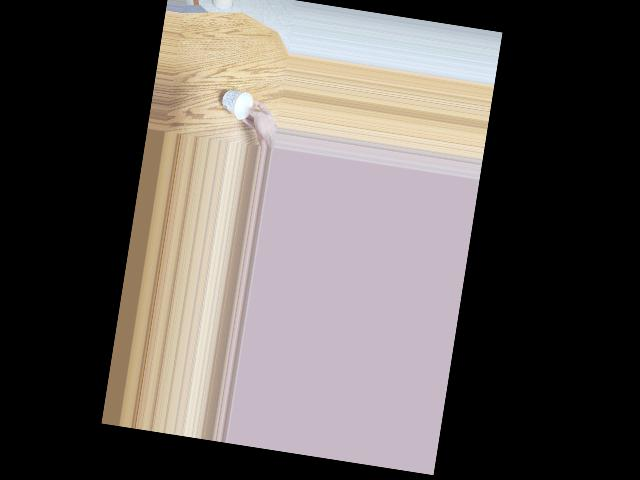cotage: (218, 88, 257, 126)
